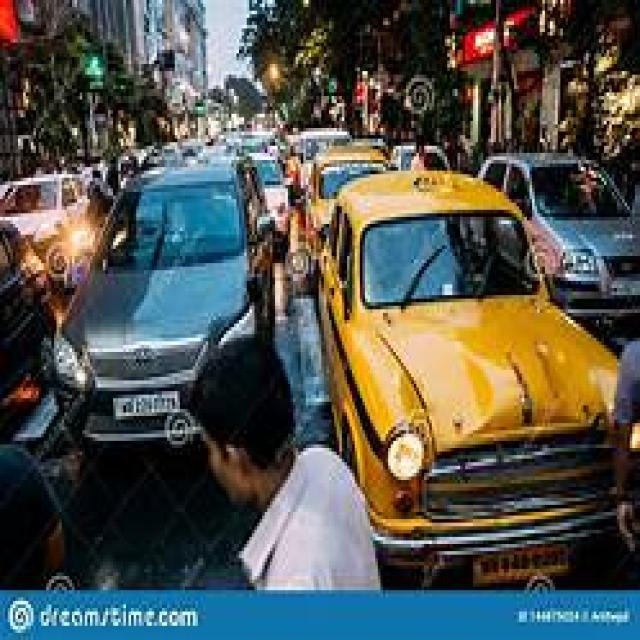Car: (309, 145, 618, 584), (0, 168, 271, 445), (480, 154, 640, 347)
